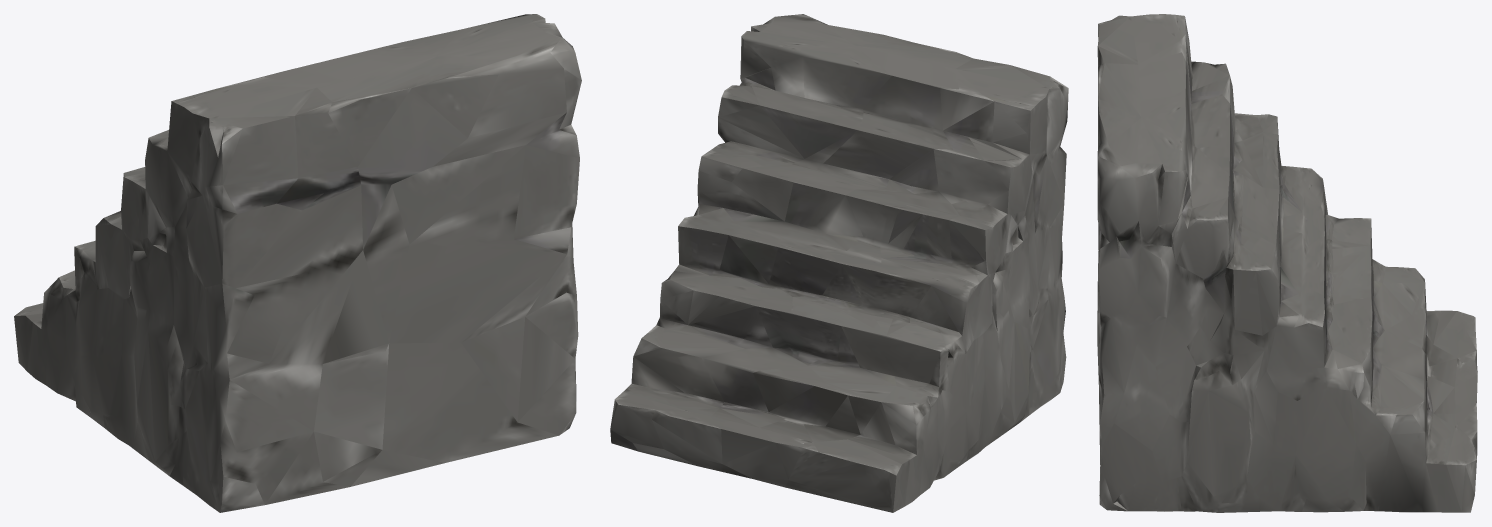
The model's file is stairs-balanced.glb.
3 renders of one model, left to right at view 1: azimuth 30°, elevation 25°; view 2: azimuth 150°, elevation 25°; view 3: azimuth 270°, elevation 25°, orthographic. The views are drawn at different scales.
Parts seen in each view (by area): view 1: stairs-balanced; view 2: stairs-balanced; view 3: stairs-balanced.
Boxes of the visible parts, bbox=[...] form: stairs-balanced: bbox=[14, 14, 581, 512]; stairs-balanced: bbox=[610, 14, 1068, 512]; stairs-balanced: bbox=[1097, 14, 1477, 512].
Bounding box in the file's own units: 1 × 1 × 1.
Materials: 1 (1 with a texture image).
